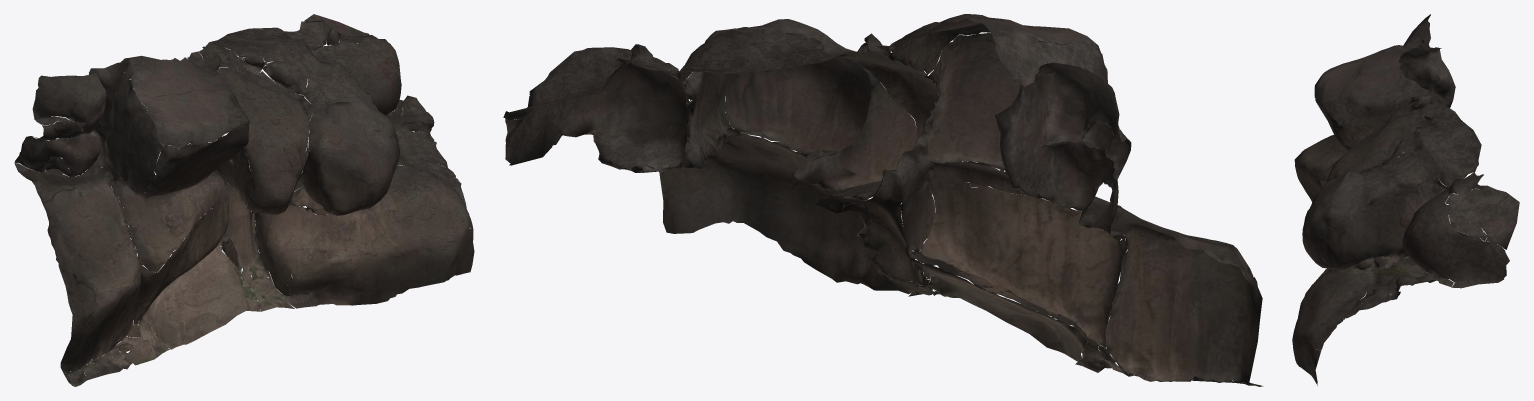
The model's file is kf_cliff_c_dark.glb.
3 renders of one model, left to right at view 1: azimuth 30°, elevation 25°; view 2: azimuth 150°, elevation 25°; view 3: azimuth 270°, elevation 25°, orthographic. The views are drawn at different scales.
Parts seen in each view (by area): view 1: drone_rock_01; view 2: drone_rock_01; view 3: drone_rock_01.
Boxes of the visible parts, x1,y1,x2,y2 form: drone_rock_01: (14, 14, 474, 386); drone_rock_01: (503, 14, 1263, 386); drone_rock_01: (1292, 14, 1519, 385).
Size of what is drawn, in the model's own units: 8.28 by 4.96 by 4.39.
1 material, 1 textured.
